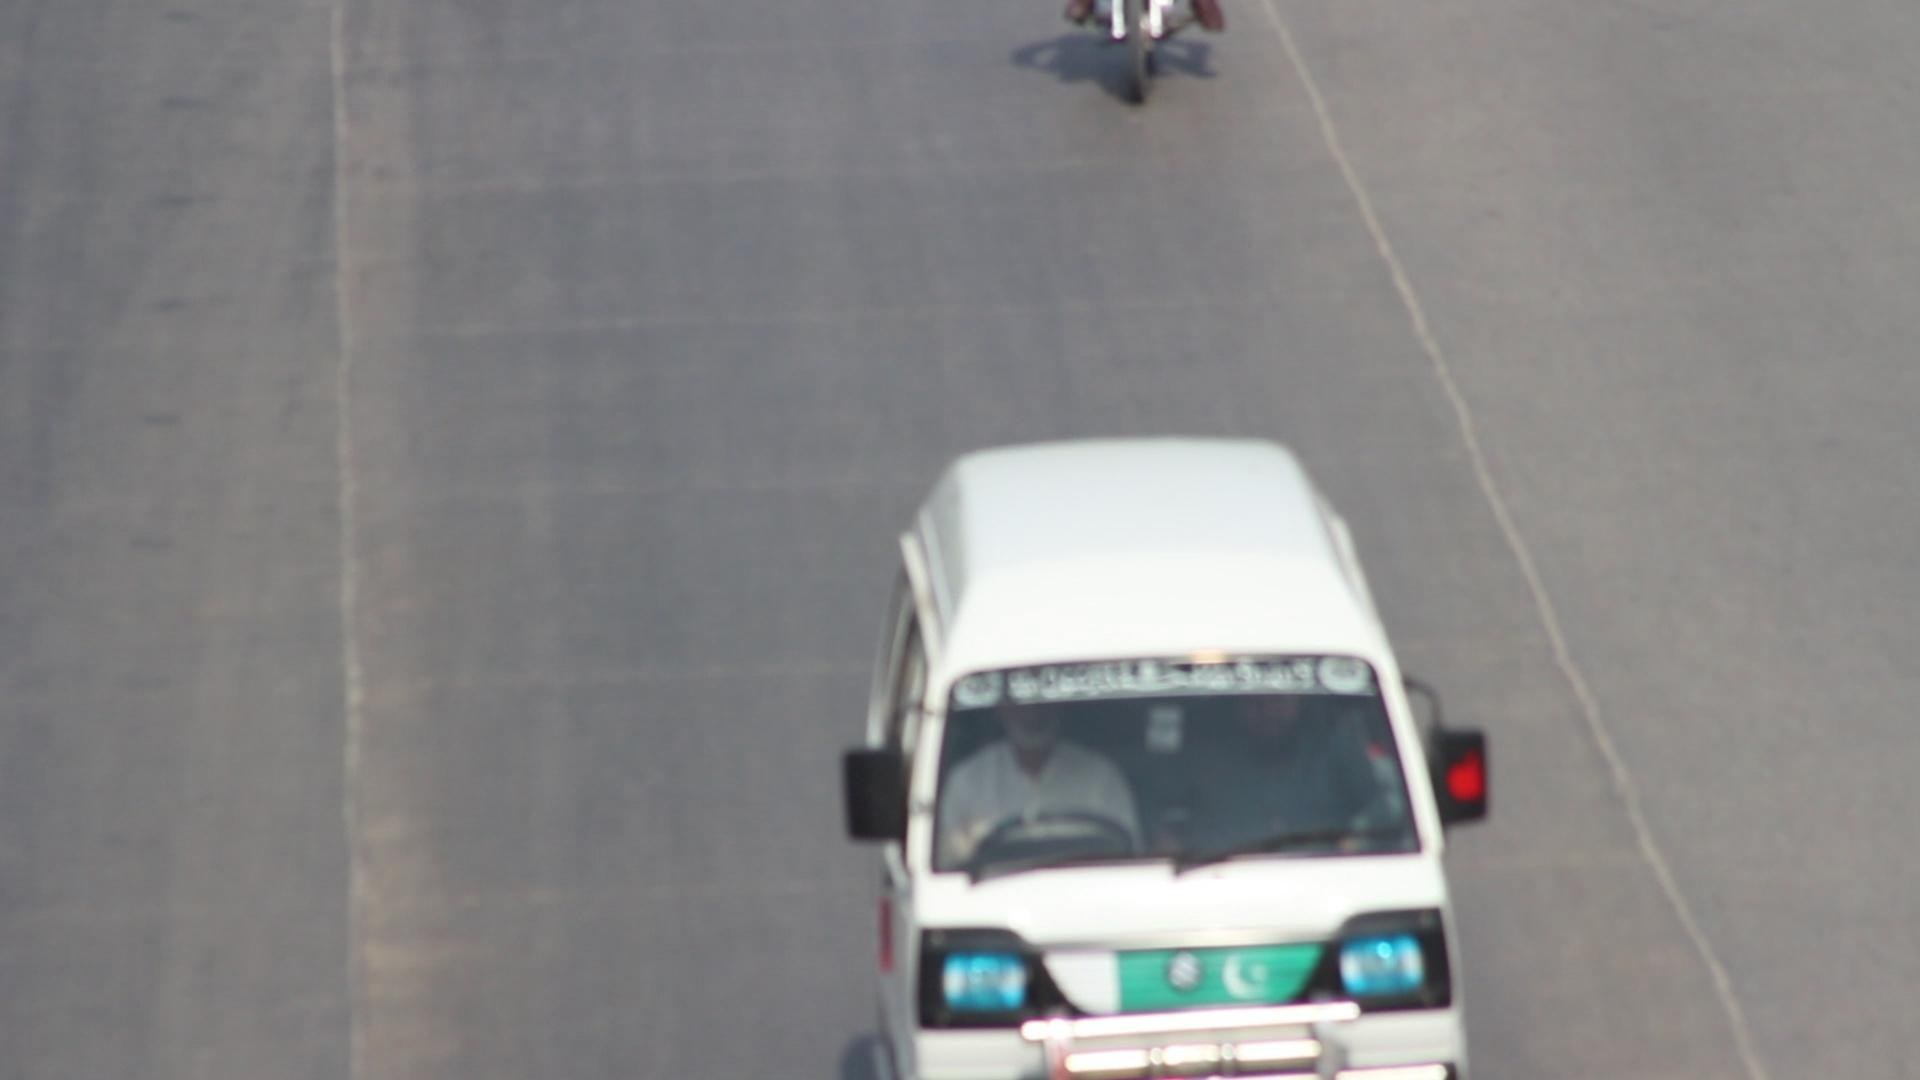windshield: (914, 640, 1451, 907)
